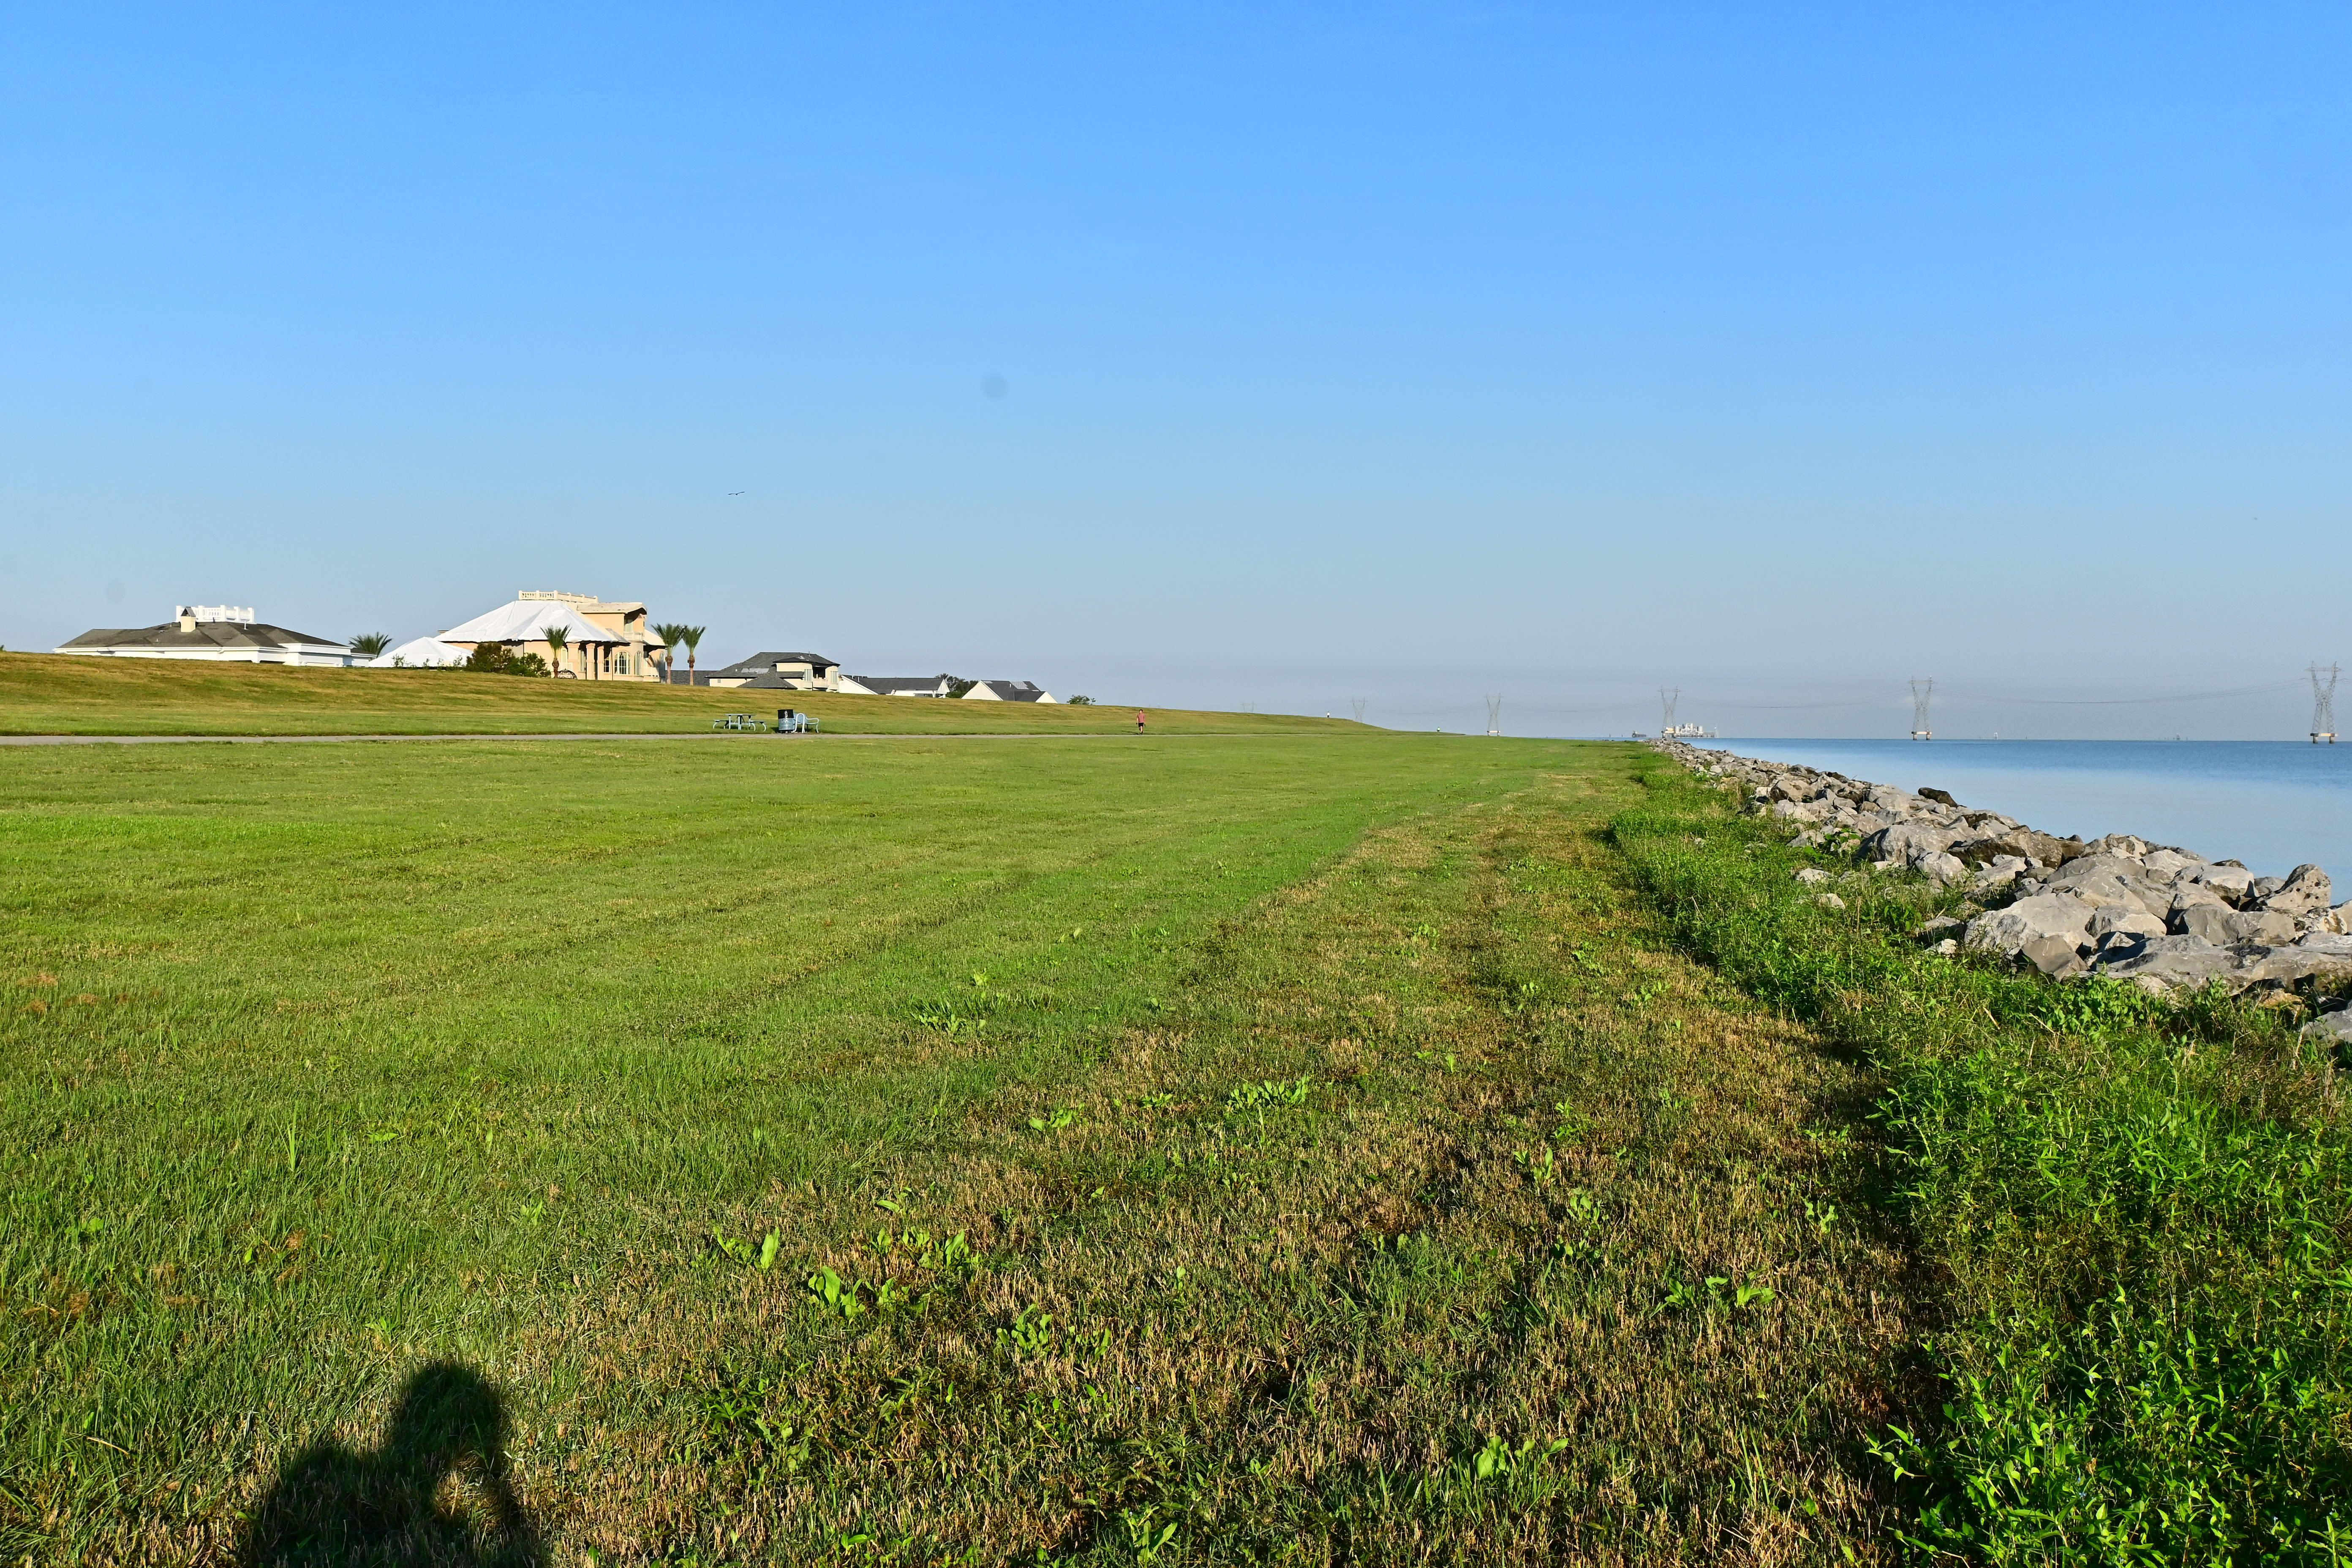affected: (402, 553, 705, 731)
